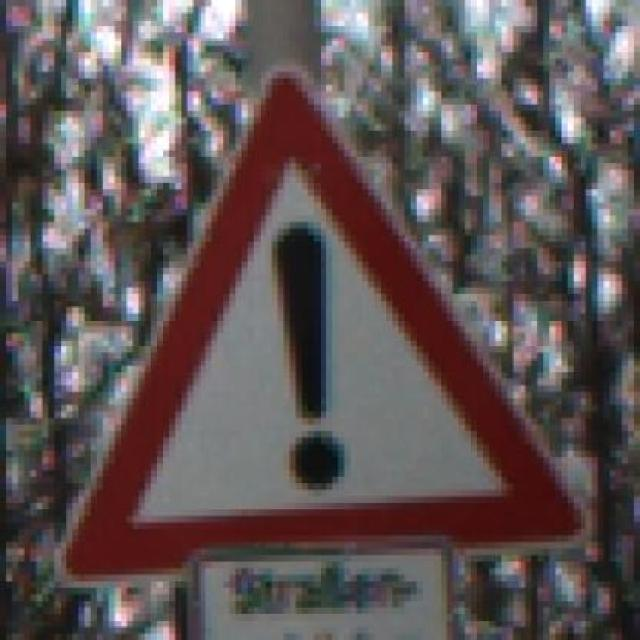Attention Please-: (48, 46, 610, 594)
